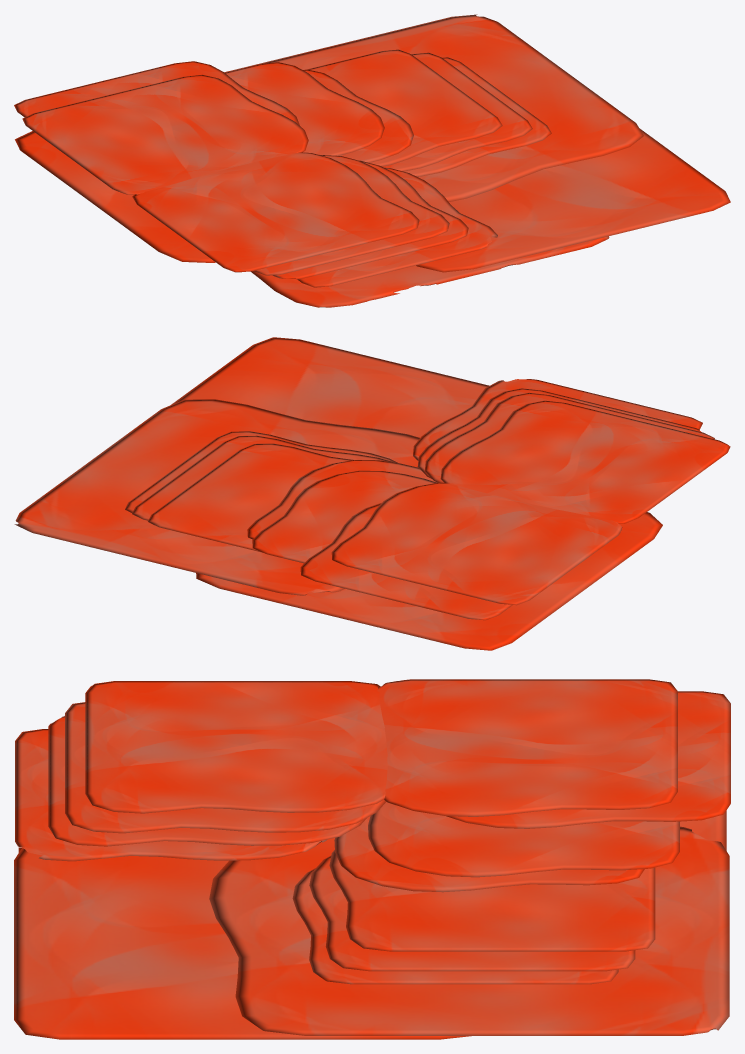
Rendered from Magma_02.fbx.
3 renders of one model, top to bottom at view 1: azimuth 30°, elevation 25°; view 2: azimuth 150°, elevation 25°; view 3: azimuth 270°, elevation 25°, orthographic. The views are drawn at different scales.
Visible parts, largest first — view 1: pCube7, pCube1, pCube12, pCube13, pCube9, pCube3, pCube15, pCube14, pCube6, pCube5, pCube2, pCube11 (+3 smaller); view 2: pCube12, pCube1, pCube7, pCube13, pCube15, pCube9, pCube3, pCube2, pCube6, pCube5, pCube11, pCube4 (+2 smaller); view 3: pCube12, pCube13, pCube1, pCube7, pCube9, pCube3, pCube2, pCube11, pCube5, pCube6, pCube10, pCube4 (+2 smaller).
Part boxes in pixels (bbox=[...]): pCube7: bbox=[132, 152, 419, 272]; pCube1: bbox=[22, 74, 308, 194]; pCube12: bbox=[224, 14, 643, 201]; pCube13: bbox=[416, 128, 730, 272]; pCube9: bbox=[307, 49, 502, 166]; pCube3: bbox=[225, 62, 384, 155]; pCube15: bbox=[15, 131, 215, 262]; pCube14: bbox=[250, 236, 609, 307]; pCube6: bbox=[297, 167, 497, 287]; pCube5: bbox=[254, 154, 449, 275]; pCube2: bbox=[14, 61, 299, 125]; pCube11: bbox=[382, 52, 532, 171]; pCube12: bbox=[14, 399, 419, 595]; pCube1: bbox=[331, 482, 622, 605]; pCube7: bbox=[440, 400, 730, 523]; pCube13: bbox=[171, 337, 489, 437]; pCube15: bbox=[196, 512, 662, 650]; pCube9: bbox=[148, 443, 352, 552]; pCube3: bbox=[252, 470, 436, 563]; pCube2: bbox=[300, 502, 512, 620]; pCube6: bbox=[413, 379, 702, 460]; pCube5: bbox=[425, 392, 714, 482]; pCube11: bbox=[132, 435, 394, 520]; pCube4: bbox=[247, 460, 436, 539]; pCube12: bbox=[209, 826, 729, 1035]; pCube13: bbox=[14, 848, 471, 1039]; pCube1: bbox=[377, 679, 677, 816]; pCube7: bbox=[85, 681, 387, 813]; pCube9: bbox=[329, 850, 655, 951]; pCube3: bbox=[368, 802, 679, 877]; pCube2: bbox=[446, 691, 730, 828]; pCube11: bbox=[309, 855, 635, 971]; pCube5: bbox=[65, 702, 386, 833]; pCube6: bbox=[15, 729, 326, 861]; pCube10: bbox=[292, 868, 618, 984]; pCube4: bbox=[334, 816, 644, 892].
Size of the model in its own units: 250 by 18.05 by 234.
